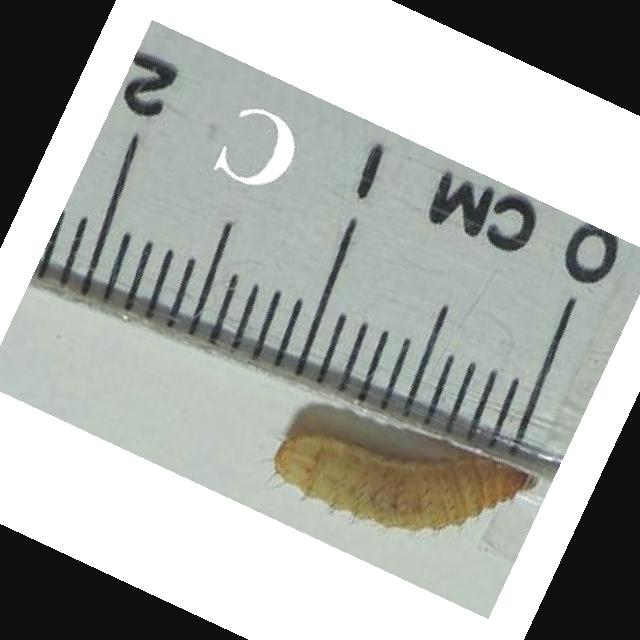Maggot: (269, 427, 548, 534)
